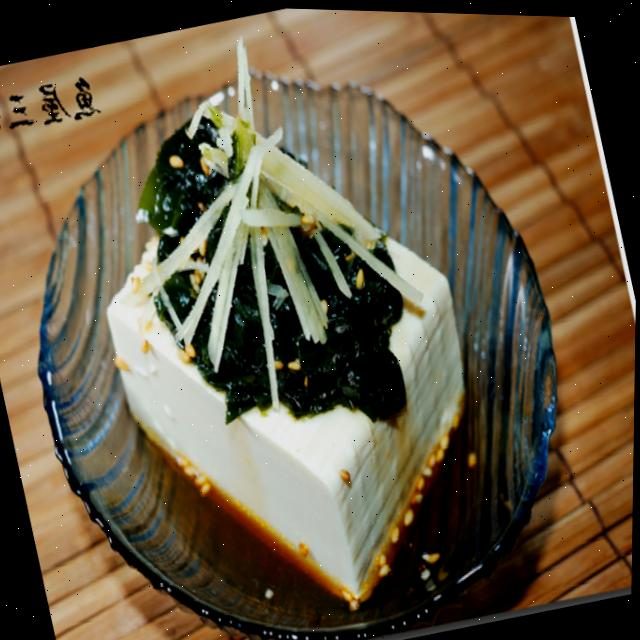豆腐料理: (60, 46, 528, 640)
